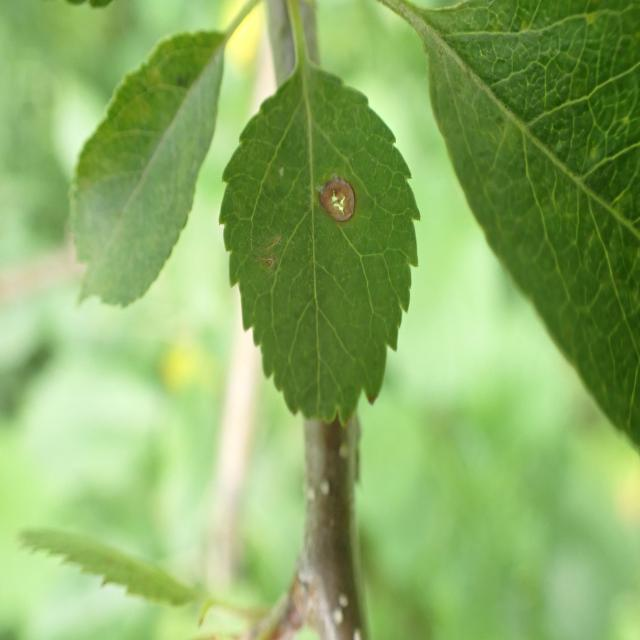frog-eye-leaf-spot: (218, 69, 422, 431)
